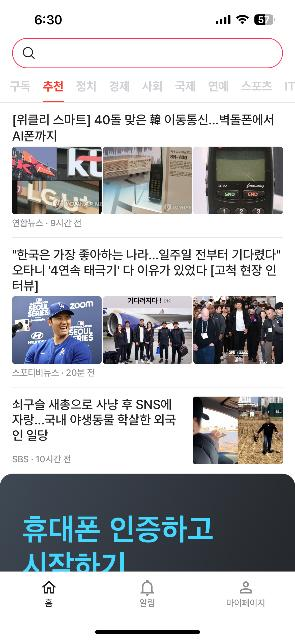Bottom_Navigation: (0, 572, 295, 640)
EditText: (12, 37, 284, 69)
Icon: (42, 580, 56, 594), (142, 580, 154, 596), (240, 581, 252, 593), (24, 47, 34, 59)
Image: (192, 396, 284, 464), (194, 146, 284, 214), (194, 296, 284, 364), (12, 296, 102, 364), (103, 146, 192, 214), (103, 296, 192, 364), (13, 146, 101, 214)
List: (1, 102, 294, 474)
Multi_Tab: (0, 72, 295, 101)
Text: (10, 248, 282, 292), (13, 115, 275, 142), (12, 399, 176, 441), (23, 515, 210, 545), (12, 218, 81, 228), (13, 369, 95, 377), (12, 454, 72, 464), (227, 599, 265, 607), (43, 80, 63, 92), (77, 80, 97, 92), (110, 80, 130, 92), (176, 80, 196, 92), (209, 80, 229, 92), (242, 82, 272, 90), (10, 81, 30, 92), (143, 81, 163, 91), (140, 599, 154, 607), (286, 81, 295, 90), (45, 599, 52, 607)
TextImageButton: (227, 581, 265, 607), (140, 579, 156, 607), (42, 580, 56, 606)
UpperTaskBar: (0, 0, 295, 37)
